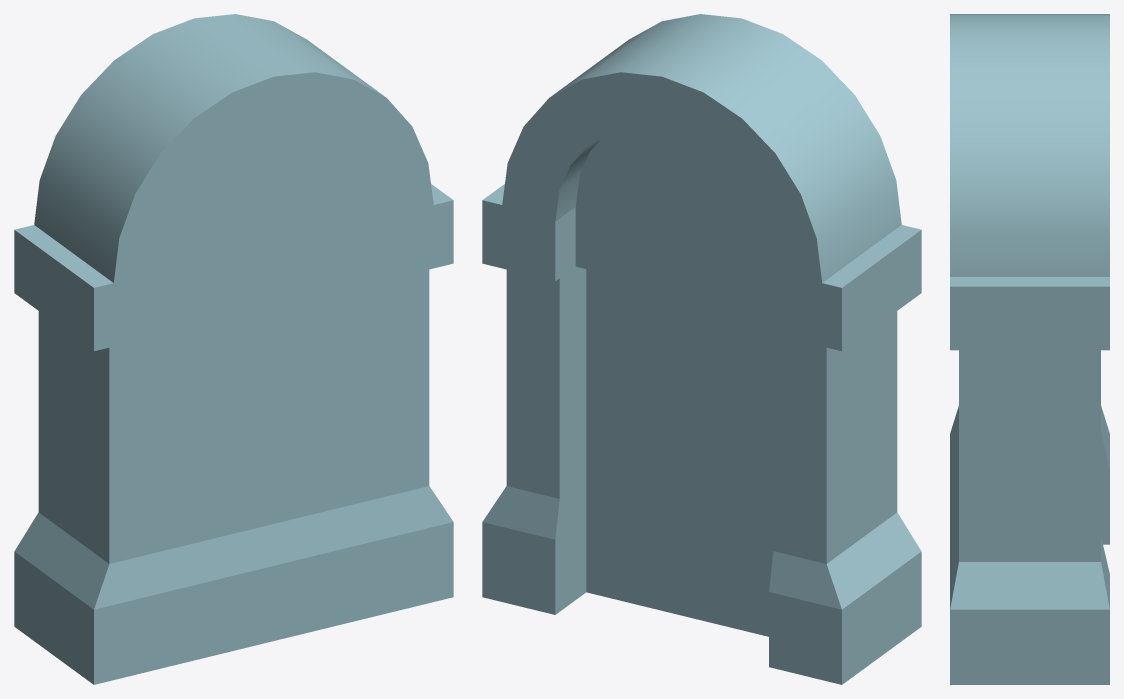
The model's file is d_kenney_pierre_tombale.glb.
The picture shows the model from 3 angles, left to right: view 1: azimuth 30°, elevation 25°; view 2: azimuth 150°, elevation 25°; view 3: azimuth 270°, elevation 25°; orthographic projection.
Parts seen in each view (by area): view 1: d_kenney_pierre_tombale; view 2: d_kenney_pierre_tombale; view 3: d_kenney_pierre_tombale.
Part boxes in pixels (x1,y1,x2,y2): d_kenney_pierre_tombale: [14, 14, 453, 684]; d_kenney_pierre_tombale: [482, 14, 921, 684]; d_kenney_pierre_tombale: [950, 14, 1109, 684].
Size of the model in its own units: 0.39 by 0.585 by 0.1495.
1 material, 1 textured.
